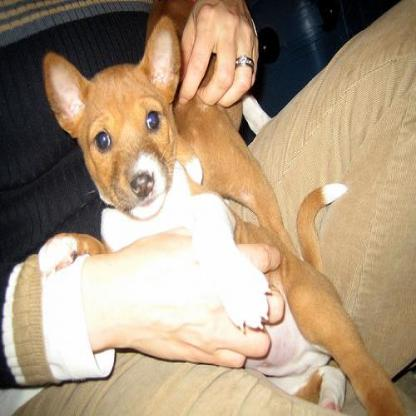basenji: (42, 14, 408, 414)
